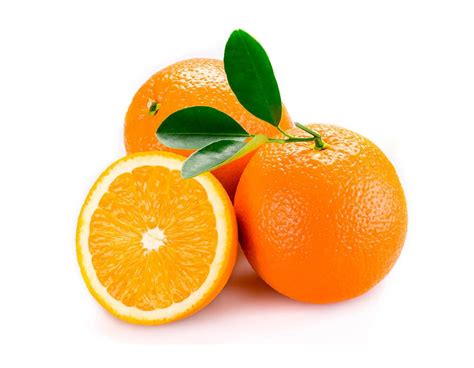orange: (234, 121, 410, 304), (117, 56, 296, 172)
